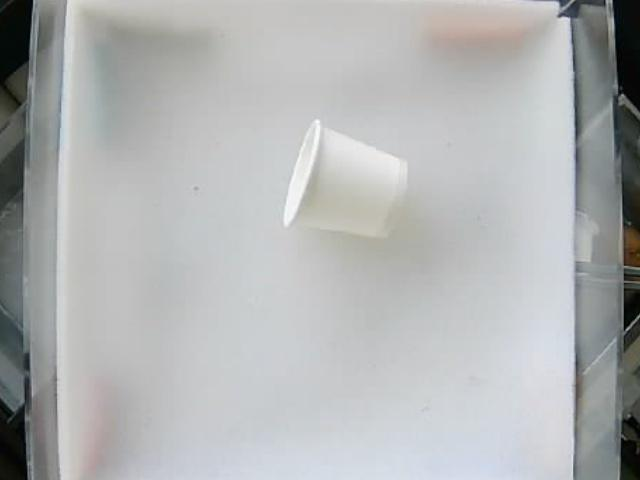Cup: (285, 119, 411, 239)
